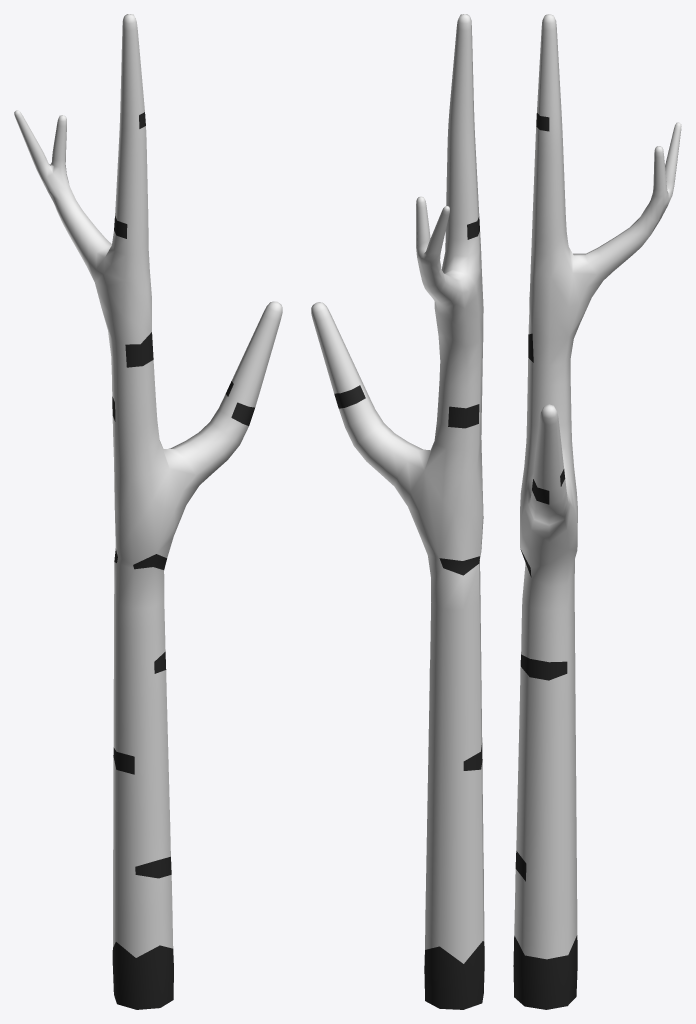
Rendered from Tree Birch 3.fbx.
3 views of the same model, side by side, from view 1: azimuth 30°, elevation 25°; view 2: azimuth 150°, elevation 25°; view 3: azimuth 270°, elevation 25° (orthographic).
Visible parts, largest first — view 1: Tree Birch 3; view 2: Tree Birch 3; view 3: Tree Birch 3.
Boxes of the visible parts, left/top/right/bottom form: Tree Birch 3: left=14, top=14, right=282, bottom=1009; Tree Birch 3: left=311, top=14, right=484, bottom=1009; Tree Birch 3: left=513, top=14, right=681, bottom=1009.
Size of the model in its own units: 125 by 583 by 90.86.
